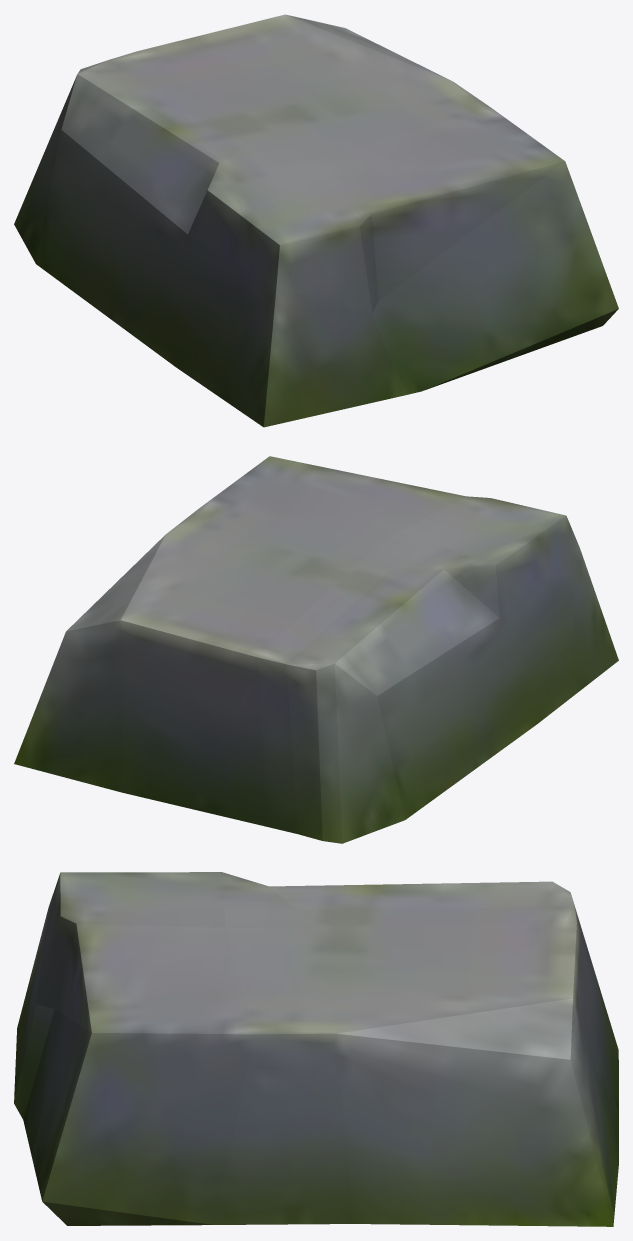
File: sn_pebble_square_5.glb
3 renders of one model, top to bottom at view 1: azimuth 30°, elevation 25°; view 2: azimuth 150°, elevation 25°; view 3: azimuth 270°, elevation 25°, orthographic. The views are drawn at different scales.
Parts seen in each view (by area): view 1: Pebble_Square_5; view 2: Pebble_Square_5; view 3: Pebble_Square_5.
Boxes of the visible parts, box(x1,y1,x2,y2) form: Pebble_Square_5: box(14, 14, 618, 427); Pebble_Square_5: box(14, 456, 618, 843); Pebble_Square_5: box(14, 872, 618, 1226).
Size of the model in its own units: 0.3521 by 0.1522 by 0.4504.
1 material, 1 textured.
